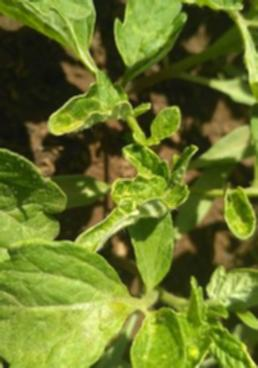Tomato leaf mosaic virus: (0, 240, 131, 368), (74, 142, 197, 251), (34, 83, 152, 141), (112, 194, 183, 288), (111, 0, 184, 89), (124, 304, 188, 368), (205, 263, 258, 314), (197, 323, 257, 368), (214, 184, 258, 245)
